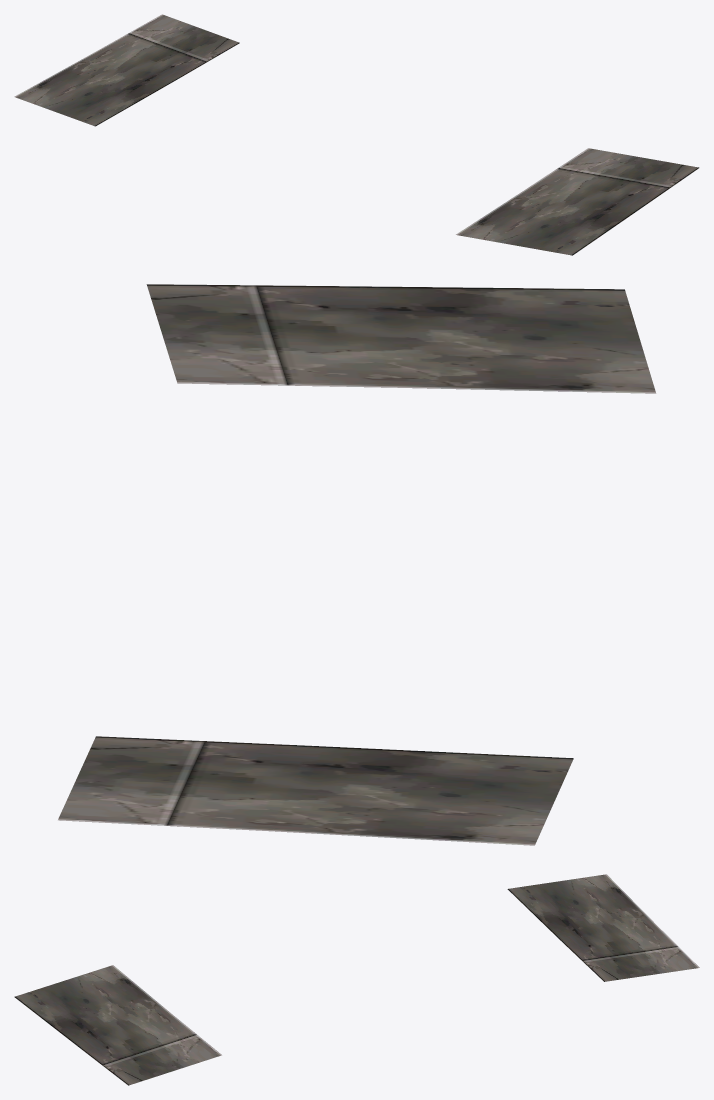
The model's file is CH09_SMAUG_PLAYSURFACE_LAIR135.fbx.
3 renders of one model, top to bottom at view 1: azimuth 30°, elevation 25°; view 2: azimuth 150°, elevation 25°; view 3: azimuth 270°, elevation 25°, orthographic. The views are drawn at different scales.
Visible parts, largest first — view 1: CH09_SMAUG_PLAYSURFACE_LAIR135; view 2: CH09_SMAUG_PLAYSURFACE_LAIR135; view 3: CH09_SMAUG_PLAYSURFACE_LAIR135.
Part boxes in pixels (left/top/right/bottom): CH09_SMAUG_PLAYSURFACE_LAIR135: left=14, top=14, right=699, bottom=255; CH09_SMAUG_PLAYSURFACE_LAIR135: left=58, top=284, right=656, bottom=845; CH09_SMAUG_PLAYSURFACE_LAIR135: left=14, top=874, right=699, bottom=1085.
Size of the model in its own units: 40094 by 0.0107 by 54978.
1 material, 1 textured.
